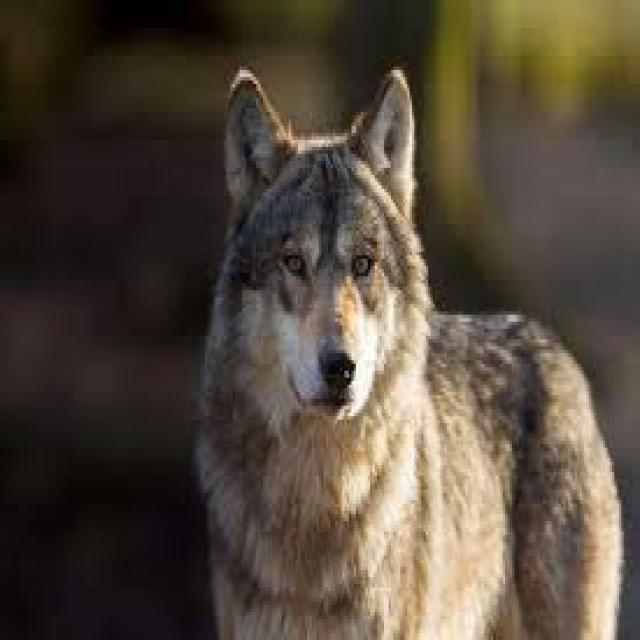Wolf: (191, 63, 624, 636)
